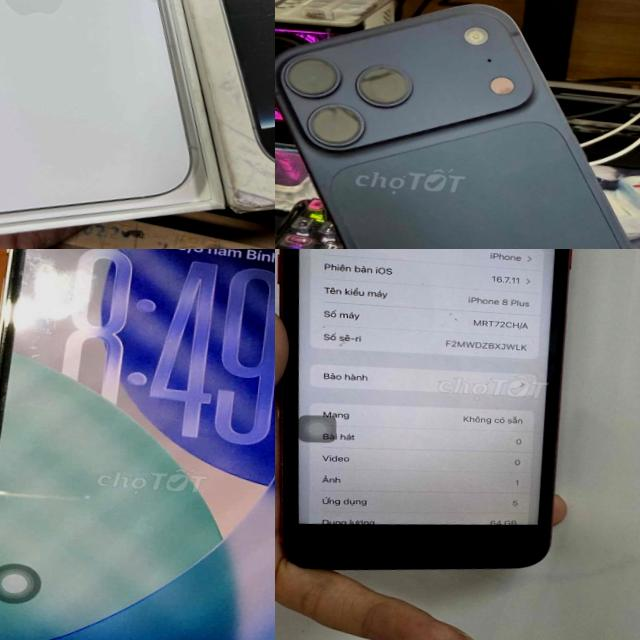scratch: (9, 249, 80, 370), (310, 313, 360, 351), (436, 305, 462, 329)
